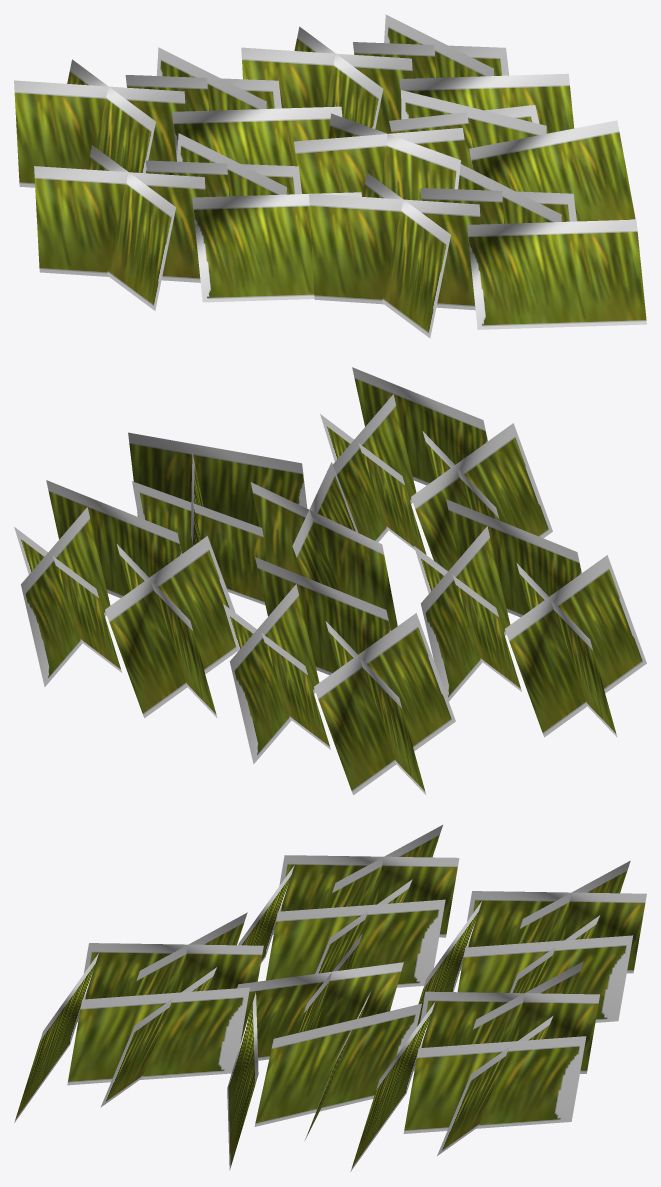
The model's file is xzl_cao1_zu02.fbx.
3 views of the same model, one above another, from view 1: azimuth 30°, elevation 25°; view 2: azimuth 150°, elevation 25°; view 3: azimuth 270°, elevation 25° (orthographic). The views are drawn at different scales.
Visible parts, largest first — view 1: xzl_cao1_zu02; view 2: xzl_cao1_zu02; view 3: xzl_cao1_zu02.
Part boxes in pixels (x1=…): xzl_cao1_zu02: x1=14, y1=14, x2=646, y2=338; xzl_cao1_zu02: x1=14, y1=367, x2=646, y2=795; xzl_cao1_zu02: x1=14, y1=825, x2=646, y2=1171.
Size of the model in its own units: 1532 by 293 by 1623.
